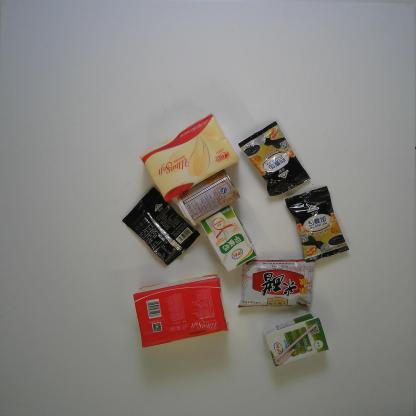Canned Food: (174, 168, 242, 228)
Instant Drink: (121, 186, 201, 266), (238, 120, 312, 197), (284, 186, 350, 264)
Milk: (200, 204, 258, 273), (262, 310, 330, 368)
Seasoner: (237, 258, 316, 309)
Tissue: (138, 112, 240, 203), (132, 273, 229, 349)
